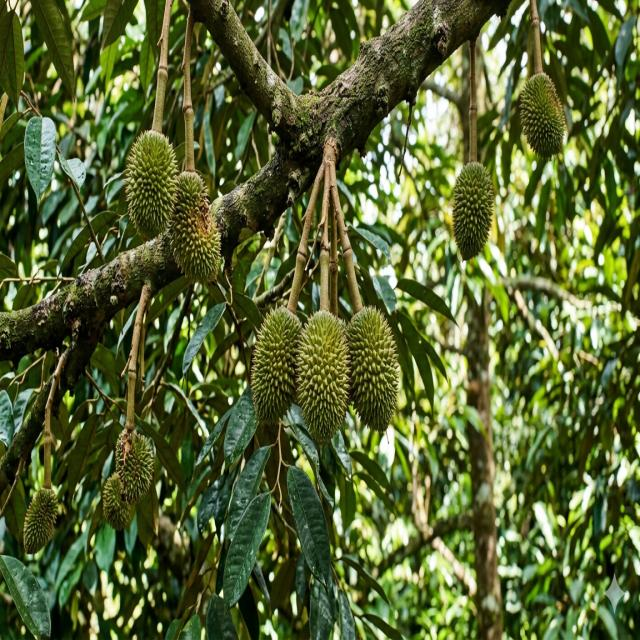immature: (293, 307, 351, 444), (344, 303, 400, 434), (250, 304, 303, 424), (168, 170, 222, 284), (124, 128, 178, 240), (450, 162, 494, 262), (518, 72, 567, 160), (118, 429, 156, 503), (22, 484, 59, 554), (102, 472, 132, 530)
